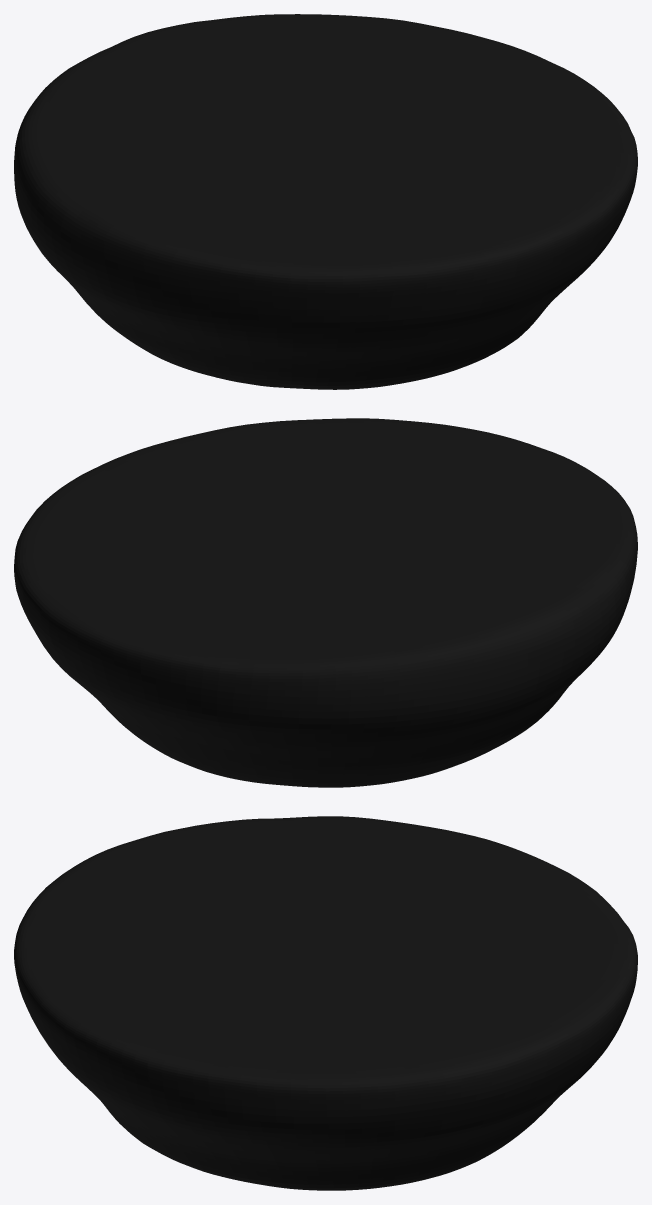
File: bottomLeather.gltf
The picture shows the model from 3 angles, top to bottom: view 1: azimuth 30°, elevation 25°; view 2: azimuth 150°, elevation 25°; view 3: azimuth 270°, elevation 25°; orthographic projection. The views are drawn at different scales.
Visible parts, largest first — view 1: Retopo_middle-top.003; view 2: Retopo_middle-top.003; view 3: Retopo_middle-top.003.
Part boxes in pixels (x1,y1,x2,y2): Retopo_middle-top.003: (14,14,637,389); Retopo_middle-top.003: (14,418,637,787); Retopo_middle-top.003: (14,816,637,1190).
Size of the model in its own units: 4.27 by 1.52 by 4.33.
1 material, 1 textured.
